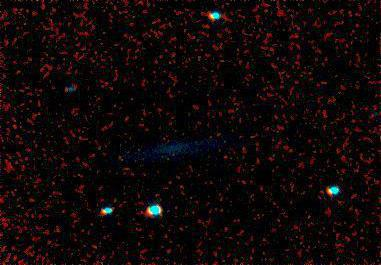star: (213, 126, 243, 156)
